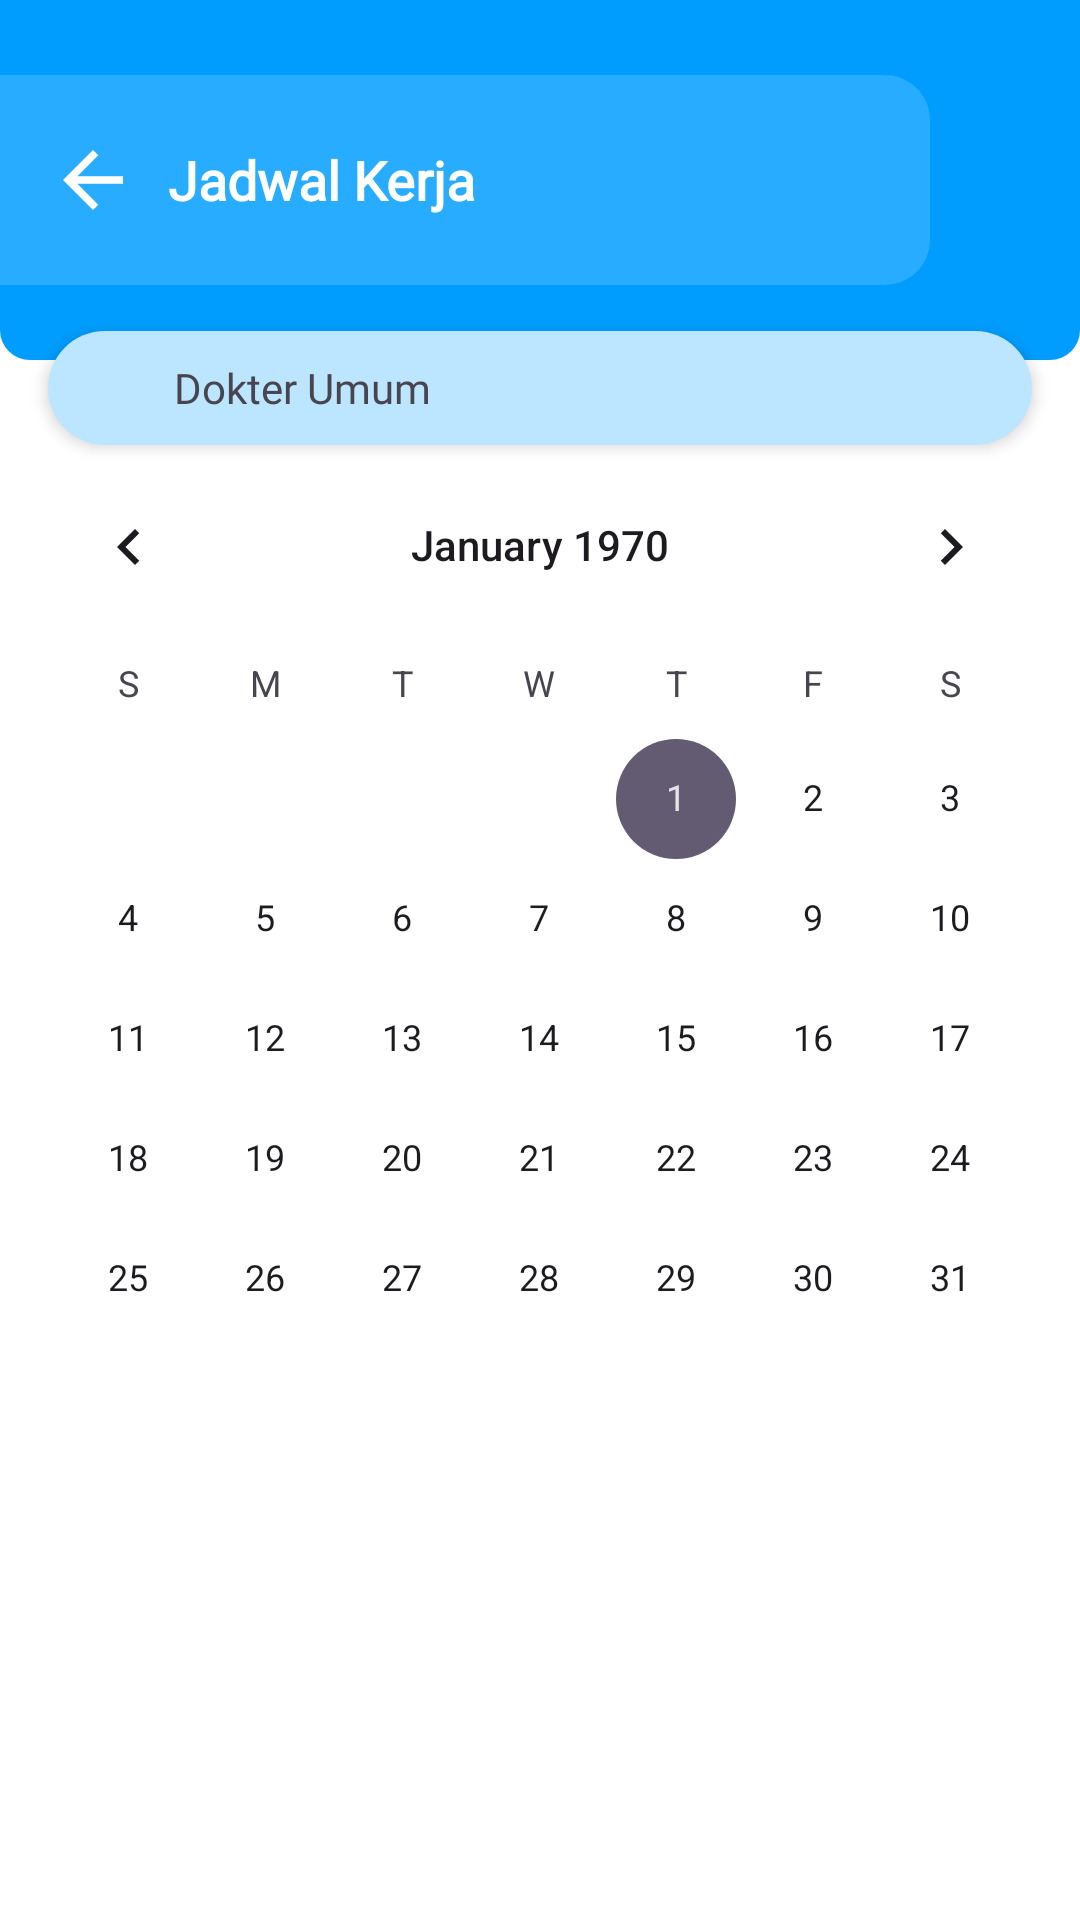

Icon bounding boxes for this 1080 x 1920 phone screenshot, format (x1,y1,x2,y2):
Back: (63,150,123,210)
